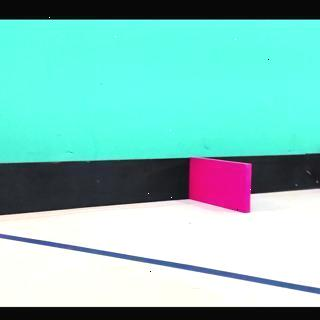xparking: (192, 166, 247, 212)
